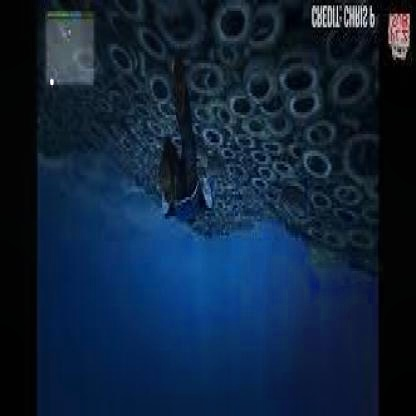tire: (269, 36, 336, 112), (300, 104, 348, 181), (181, 44, 230, 109), (225, 58, 275, 120), (290, 85, 337, 148), (106, 33, 154, 82), (308, 142, 338, 206), (209, 3, 246, 54), (308, 181, 338, 238), (156, 63, 180, 118)
